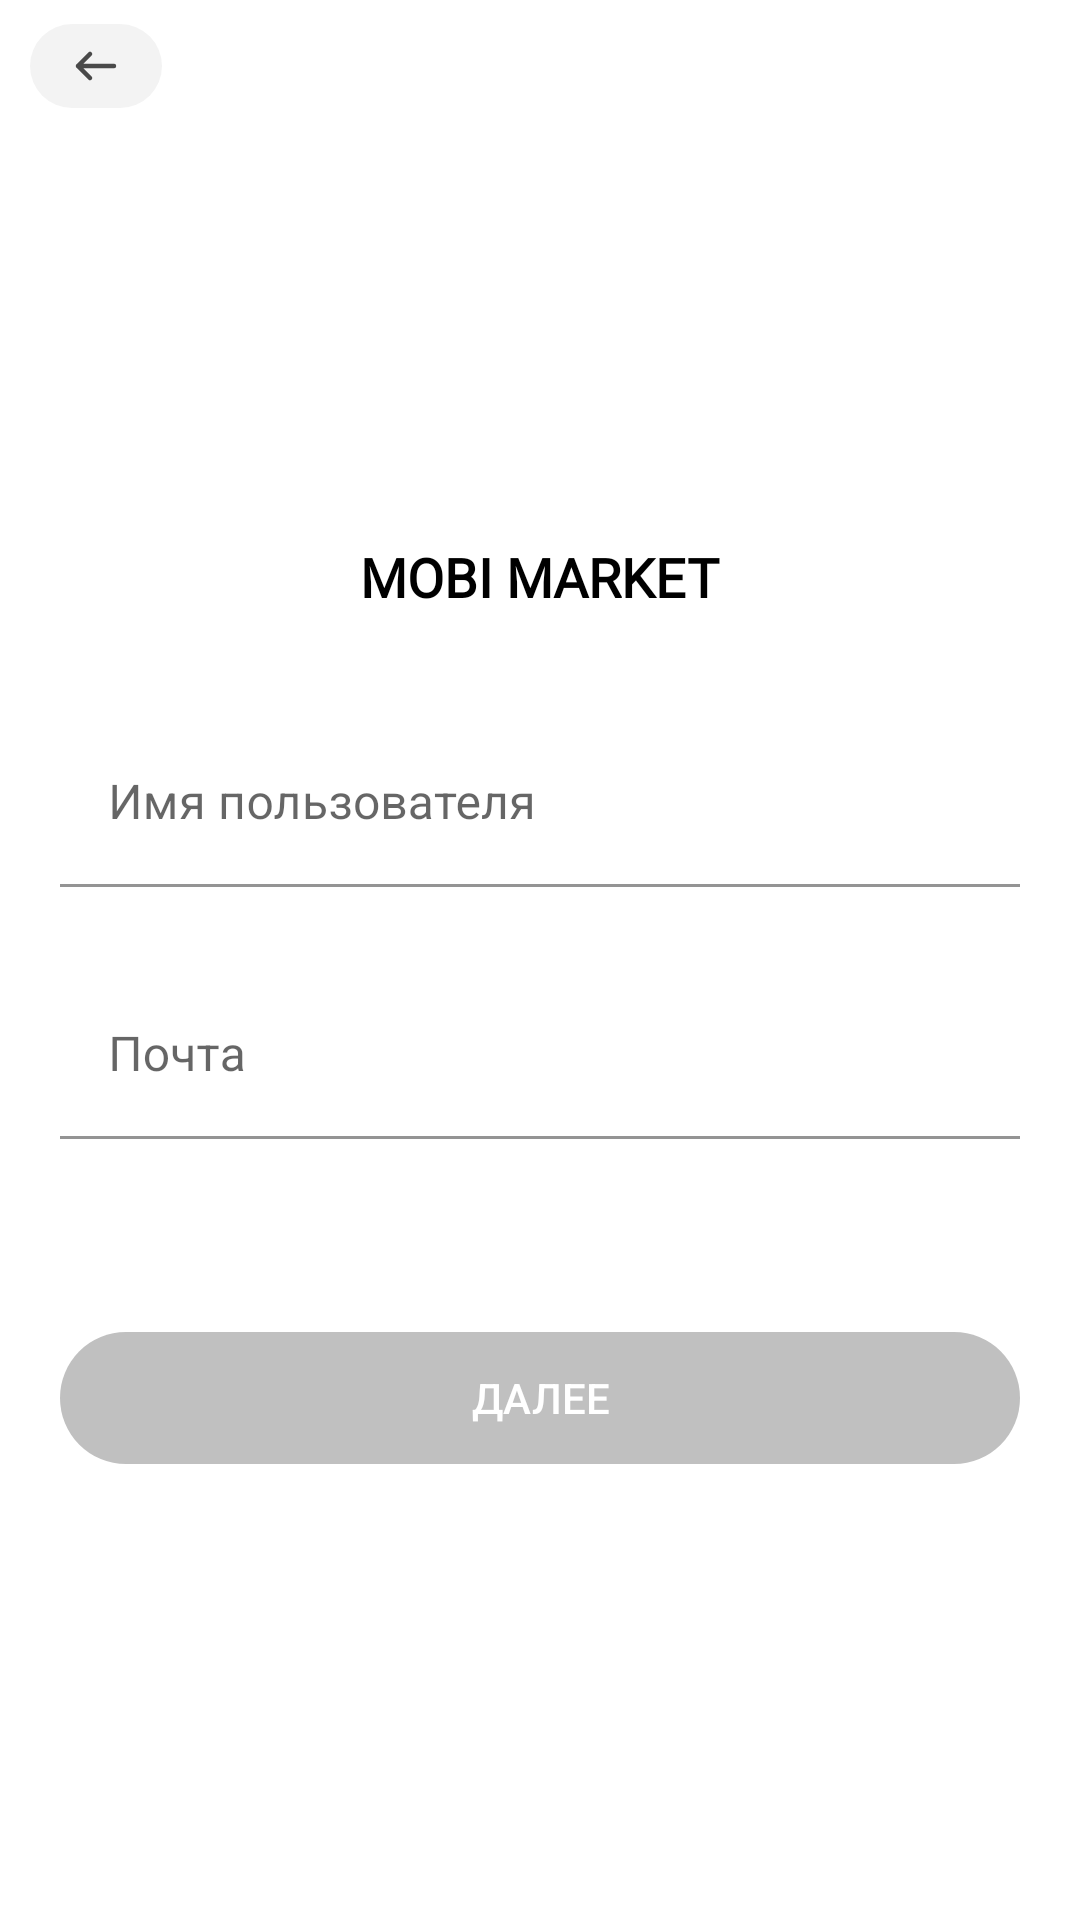

Where icons sit on this 1080×1920 app screen, as [x1=x1, y1=y1, x2=x2, y2=y2]:
arrowback: [x1=30, y1=24, x2=162, y2=108]
